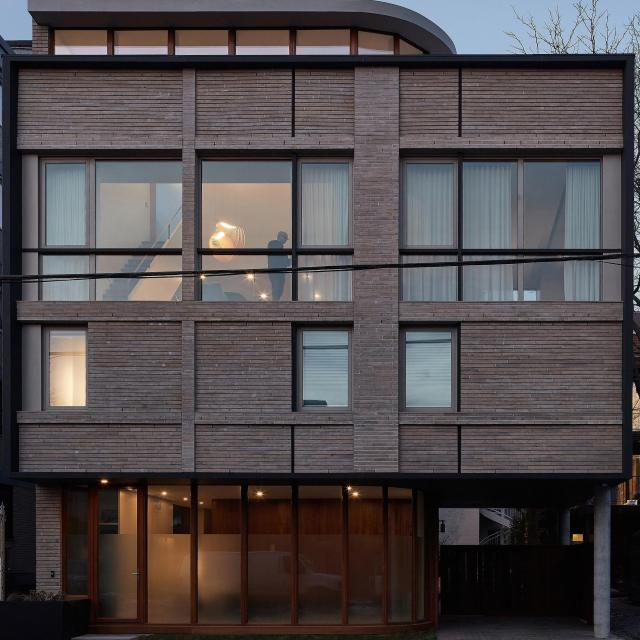door: (87, 484, 150, 626)
plant: (1, 590, 64, 632)
wall: (0, 0, 633, 640)
windows: (60, 484, 419, 626), (402, 156, 602, 299), (196, 158, 354, 302), (41, 157, 182, 303), (53, 29, 433, 54), (290, 327, 354, 408), (399, 325, 456, 409), (41, 326, 90, 412)
